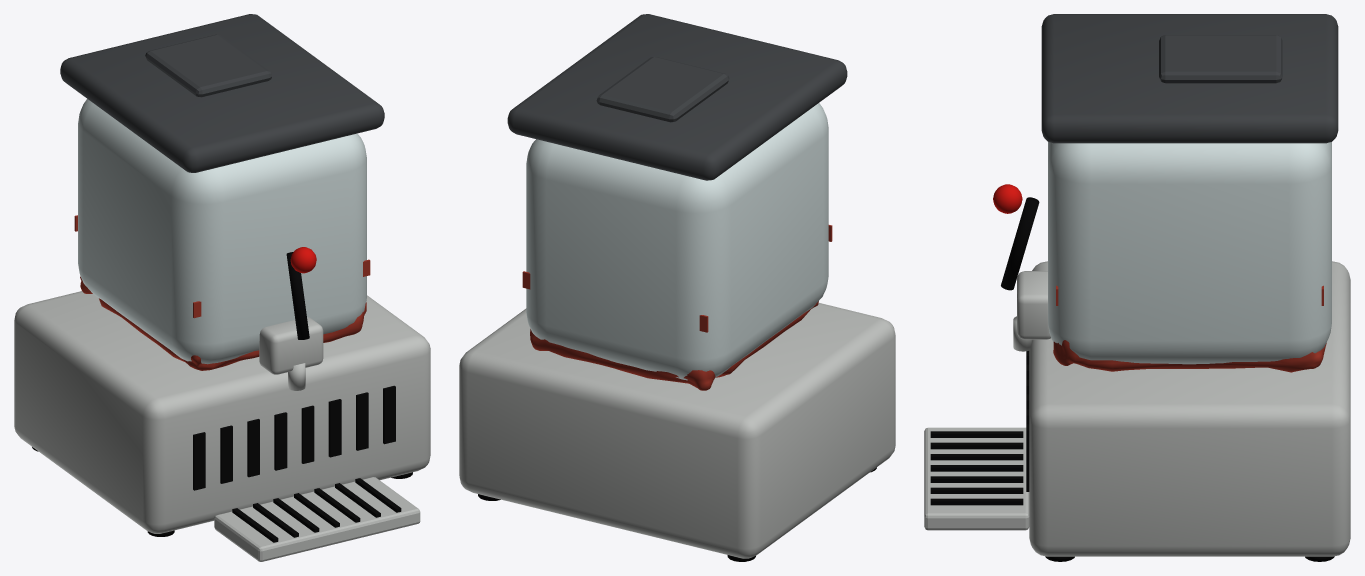
The model's file is slush-machine.glb.
3 renders of one model, left to right at view 1: azimuth 30°, elevation 25°; view 2: azimuth 150°, elevation 25°; view 3: azimuth 270°, elevation 25°, orthographic. The views are drawn at different scales.
Visible parts, largest first — view 1: Würfel, Würfel.017, Würfel.021, Würfel.009, Würfel.022, Würfel.023, Würfel.018, Zylinder.006, Würfel.004, Würfel.006, Würfel.005, Würfel.001 (+5 smaller); view 2: Würfel, Würfel.017, Würfel.021, Würfel.022, Würfel.018; view 3: Würfel, Würfel.017, Würfel.021, Würfel.009, Würfel.022, Würfel.018, Würfel.023, Zylinder.006, Würfel.011, Würfel.016, Kugel, Würfel.010 (+4 smaller).
Boxes of the visible parts, bbox=[...] form: Würfel: bbox=[14, 291, 430, 533]; Würfel.017: bbox=[78, 99, 366, 364]; Würfel.021: bbox=[60, 14, 384, 172]; Würfel.009: bbox=[214, 477, 420, 561]; Würfel.022: bbox=[145, 34, 271, 97]; Würfel.023: bbox=[259, 317, 323, 374]; Würfel.018: bbox=[80, 276, 366, 370]; Zylinder.006: bbox=[286, 252, 309, 339]; Würfel.004: bbox=[274, 412, 287, 470]; Würfel.006: bbox=[328, 399, 341, 457]; Würfel.005: bbox=[301, 405, 314, 463]; Würfel.001: bbox=[193, 432, 205, 490]; Würfel: bbox=[459, 303, 895, 558]; Würfel.017: bbox=[526, 103, 828, 380]; Würfel.021: bbox=[507, 14, 847, 180]; Würfel.022: bbox=[596, 57, 729, 122]; Würfel.018: bbox=[530, 301, 818, 390]; Würfel: bbox=[1029, 261, 1350, 556]; Würfel.017: bbox=[1048, 142, 1331, 364]; Würfel.021: bbox=[1041, 14, 1338, 143]; Würfel.009: bbox=[924, 427, 1029, 530]; Würfel.022: bbox=[1159, 35, 1282, 83]; Würfel.018: bbox=[1053, 340, 1326, 372]; Würfel.023: bbox=[1017, 271, 1050, 339]; Zylinder.006: bbox=[1001, 197, 1039, 290]; Würfel.011: bbox=[930, 442, 1023, 449]; Würfel.016: bbox=[930, 498, 1023, 505]; Kugel: bbox=[993, 184, 1022, 213]; Würfel.010: bbox=[930, 431, 1023, 437].
Size of the model in its own units: 0.6 by 0.78 by 0.69.
